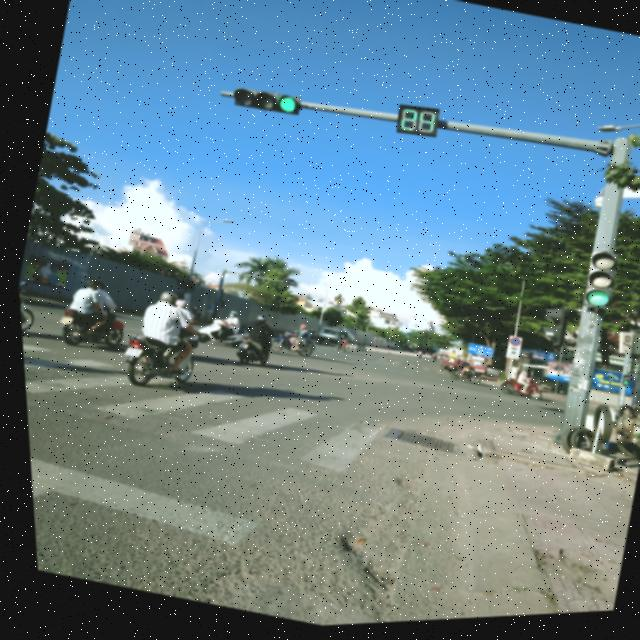Green: (567, 249, 625, 324), (222, 78, 304, 130)
